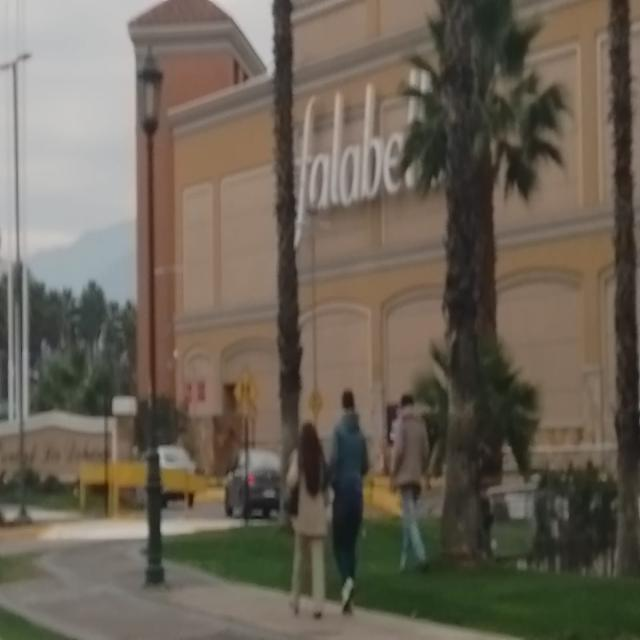person: (324, 391, 376, 618), (282, 418, 332, 623), (385, 393, 432, 576)
